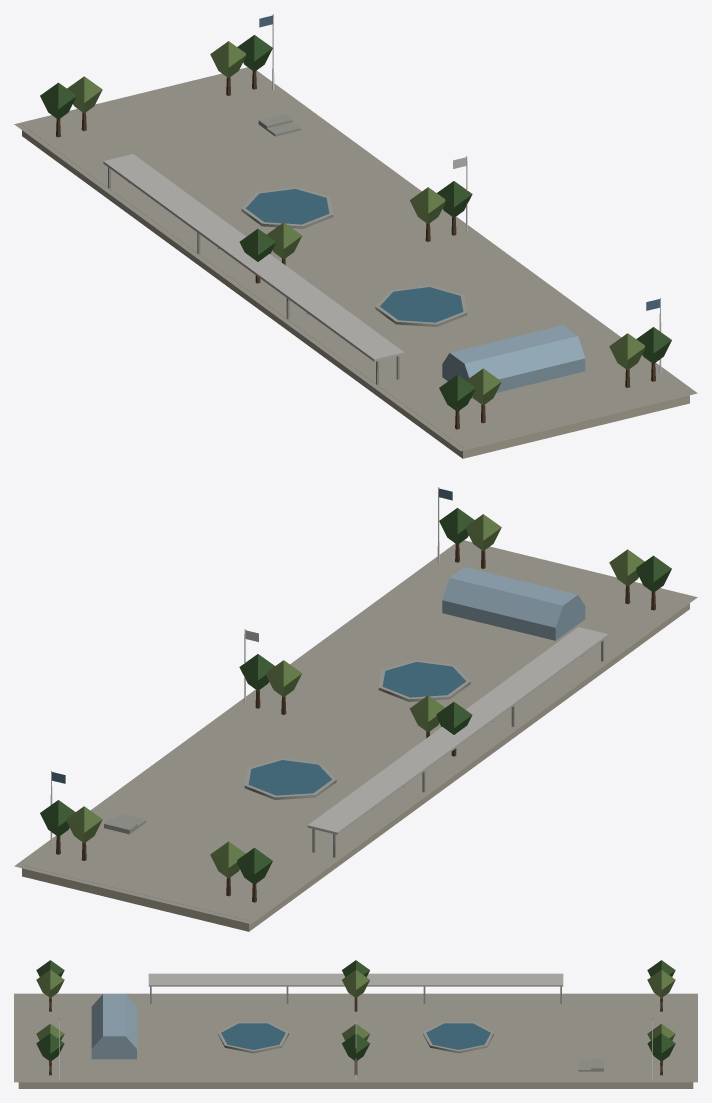
The model's file is mobile-low.glb.
The picture shows the model from 3 angles, top to bottom: view 1: azimuth 30°, elevation 25°; view 2: azimuth 150°, elevation 25°; view 3: azimuth 270°, elevation 25°; orthographic projection. The views are drawn at different scales.
Parts seen in each view (by area): view 1: lm.un-plaza; view 2: lm.un-plaza; view 3: lm.un-plaza.
Boxes of the visible parts, left/top/right/bottom form: lm.un-plaza: left=14, top=14, right=697, bottom=458; lm.un-plaza: left=14, top=487, right=697, bottom=931; lm.un-plaza: left=14, top=960, right=697, bottom=1088.
Size of the model in its own units: 46 by 16.08 by 150.
